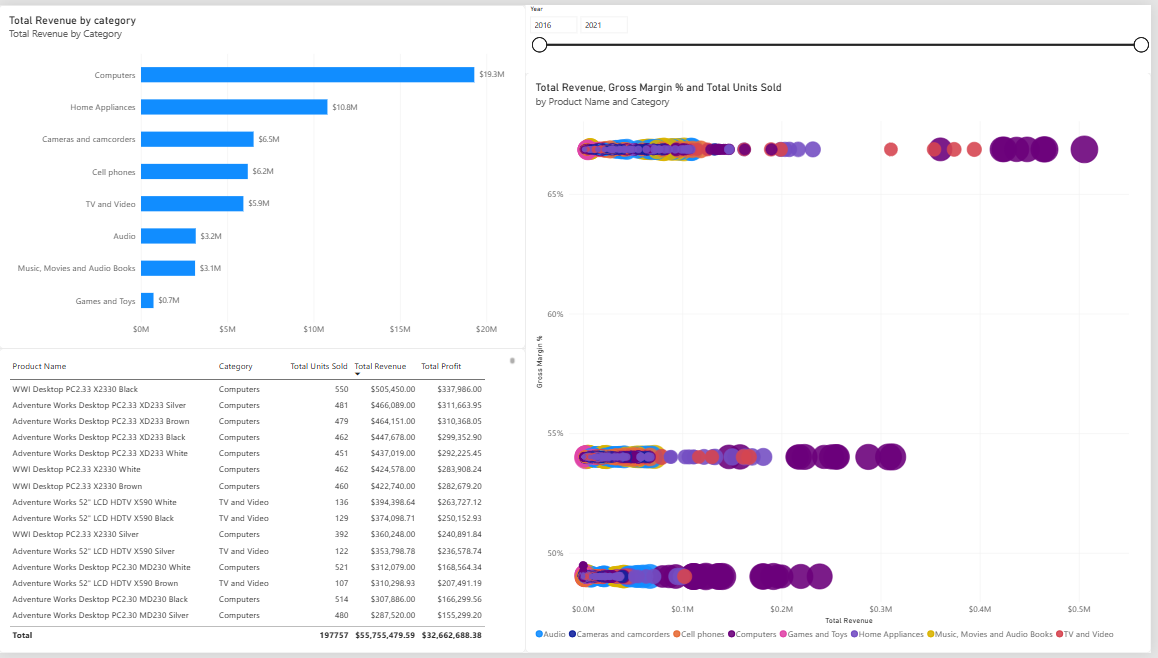

The page's visual inventory and layout, read from the dashboard file:
{"tool":"powerbi","page":{"name":"Product & Category Analysis","canvas":[1920,1080],"ordinal":1},"visuals":[{"type":"clusteredBarChart","title":"Total Revenue by category","fields":{"Category":["Dim_products.Category"],"Y":["_Measures.Total Revenue"]},"box":[0,0,877.5,572.5],"z":0},{"type":"scatterChart","fields":{"Category":["Dim_products.Product Name"],"Series":["Dim_products.Category"],"Size":["_Measures.Total Units Sold"],"X":["_Measures.Total Revenue"],"Y":["_Measures.Gross Margin %"]},"box":[877.5,112.5,1042.5,967.5],"z":1000},{"type":"tableEx","fields":{"Values":["Dim_products.Product Name","Dim_products.Category","_Measures.Total Units Sold","_Measures.Total Revenue","_Measures.Total Profit"]},"box":[0,572.5,877.5,507.5],"z":2000},{"type":"slicer","fields":{"Values":["Dim_Date.Year"]},"box":[877.5,0,1042.5,112.5],"z":3000}]}

Visuals, with their boxes in screenshot pixels (x1, y1, x2, y2), scaled from the page's 1920x1080 canvas onto the 1158x658 screenshot:
"Total Revenue by category" clusteredBarChart: box(0, 0, 529, 349)
scatterChart - Dim_products.Product Name x Dim_products.Category: box(529, 69, 1157, 657)
tableEx - Dim_products.Product Name x Dim_products.Category: box(0, 349, 529, 657)
slicer - Dim_Date.Year: box(529, 0, 1157, 69)
